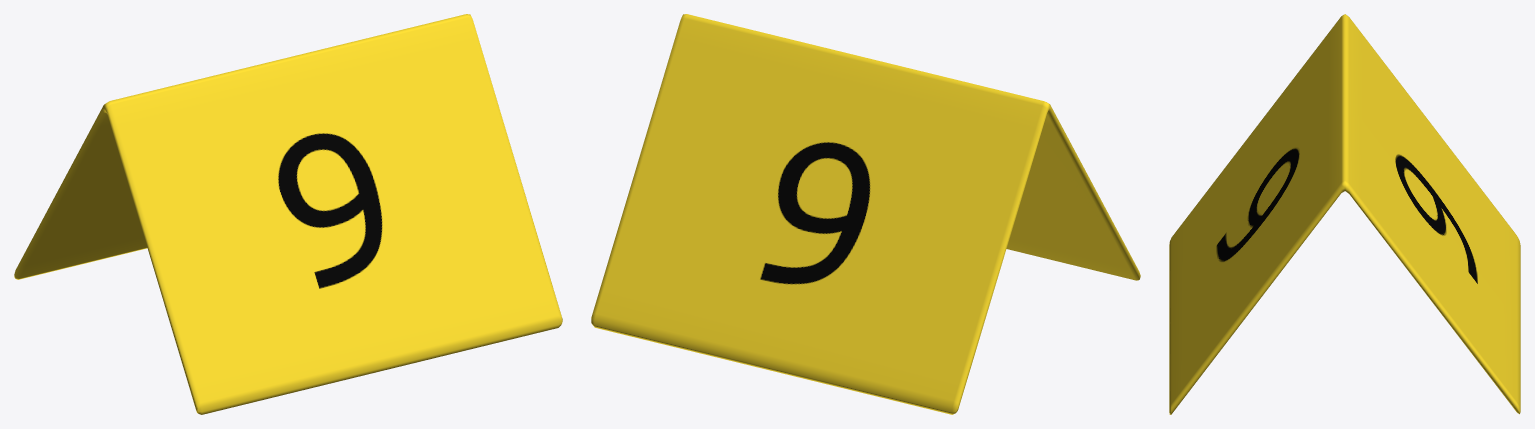
File: Model_Evidence_Marker_Final.fbx
The picture shows the model from 3 angles, left to right: view 1: azimuth 30°, elevation 25°; view 2: azimuth 150°, elevation 25°; view 3: azimuth 270°, elevation 25°; orthographic projection. The views are drawn at different scales.
Visible parts, largest first — view 1: Model_Evidence_Marker; view 2: Model_Evidence_Marker; view 3: Model_Evidence_Marker.
Boxes of the visible parts, x1,y1,x2,y2 form: Model_Evidence_Marker: (14,14,562,414); Model_Evidence_Marker: (591,14,1140,414); Model_Evidence_Marker: (1169,14,1520,414).
Bounding box in the file's own units: 6.3 × 4.04 × 5.49.
Materials: 1 (1 with a texture image).
